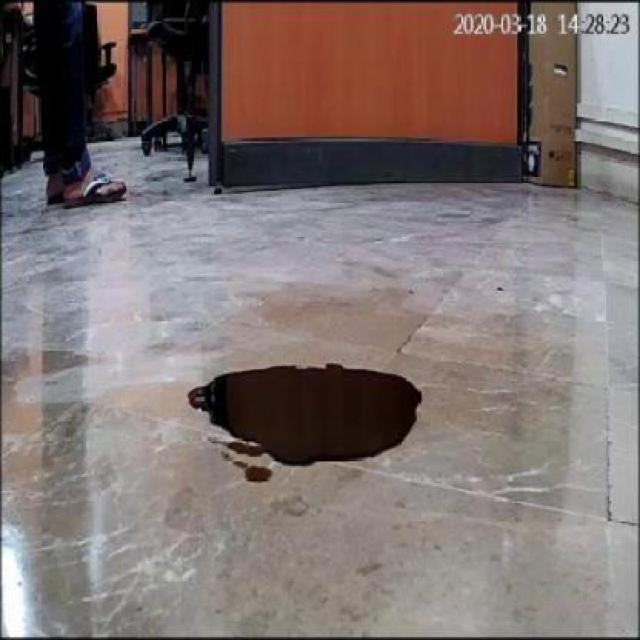spillage: (230, 362, 425, 468), (193, 363, 333, 463)
